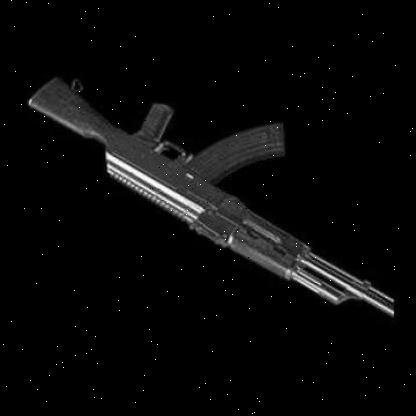rifle: (18, 59, 407, 333)
